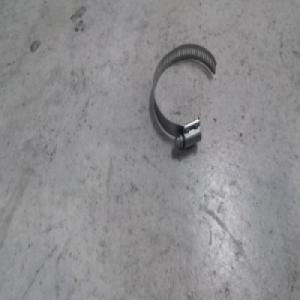AdjustableClamp: (150, 40, 219, 148)
